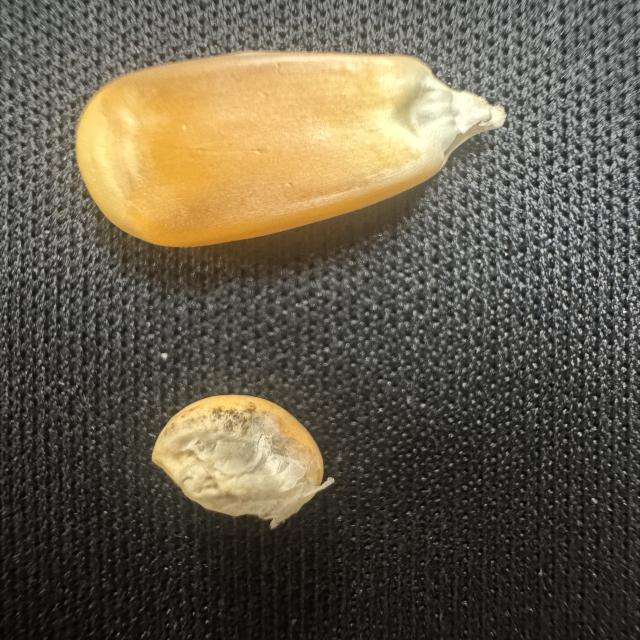Bad-Seed: (142, 389, 331, 539)
Good-Seed: (74, 42, 506, 248)
